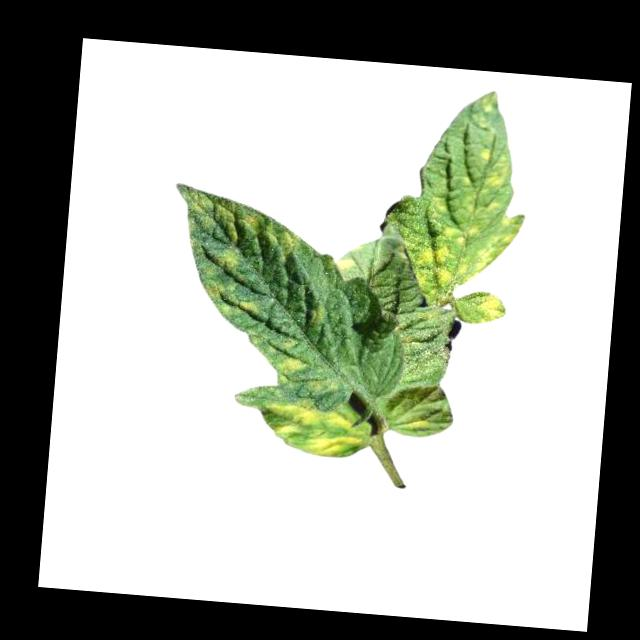Leaf_Mold: (399, 88, 533, 336), (169, 181, 307, 280), (265, 391, 380, 460), (200, 280, 265, 323), (269, 336, 311, 388)
